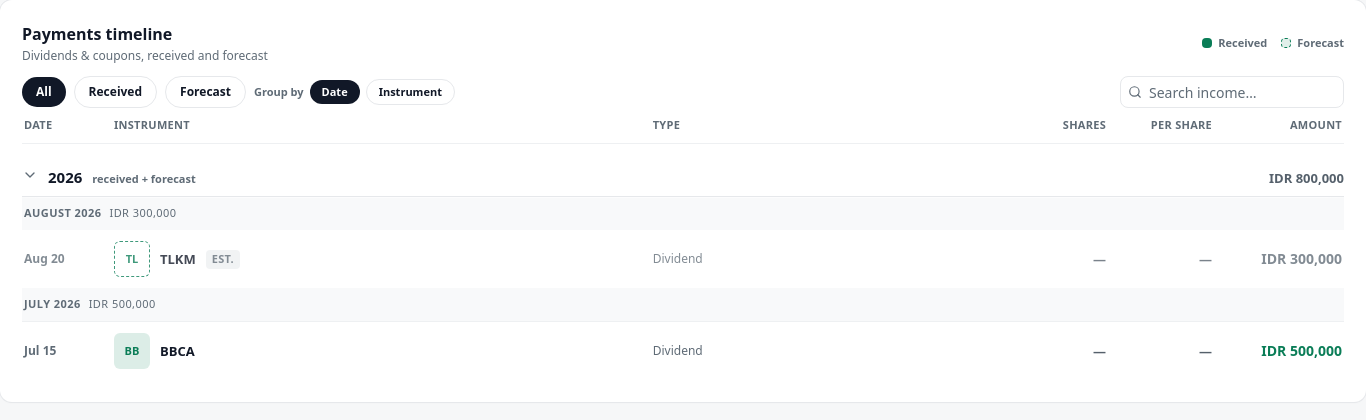
Test case: IncomeTimeline › filters to received rows only
Click the radio button labelled "Received".
click(115, 92)  # box x1=74 y1=76 x2=157 y2=108
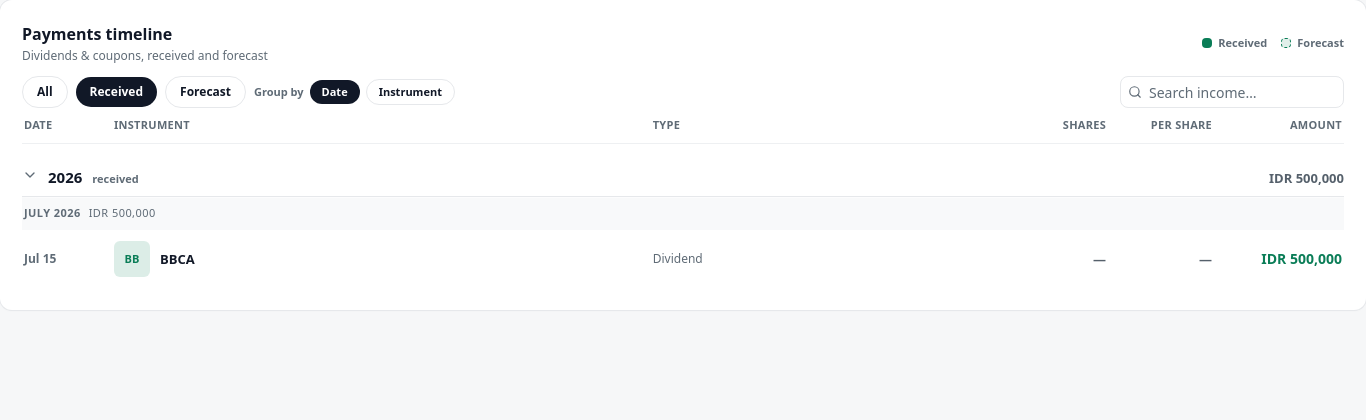
Expected: the text "BBCA" is shown, x1=160 y1=250 x2=195 y2=269
Result: the text "TLKM" is gone
